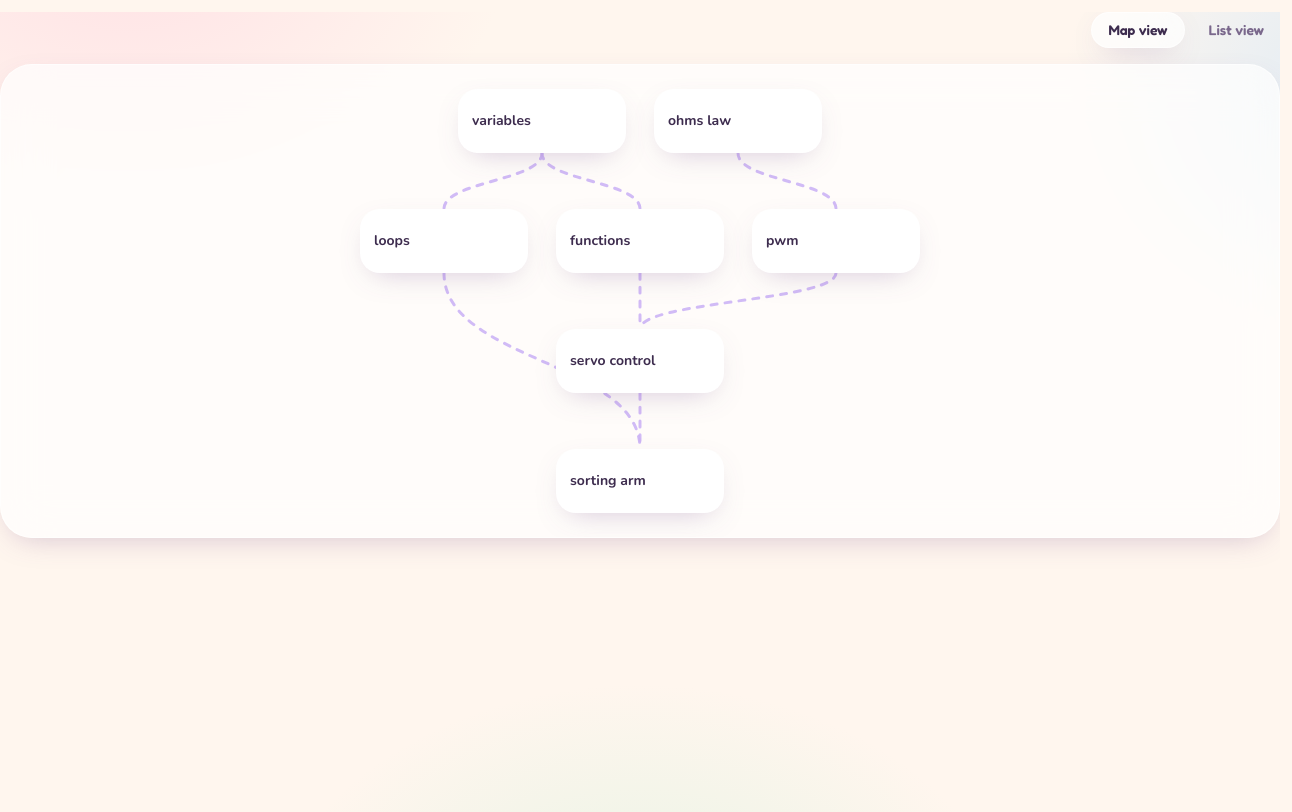
it: GraphView › offers an accessible list view
This screenshot has width=1292, height=812.
Click the button "List view". click: (1236, 30)
box: [1192,12,1280,48]
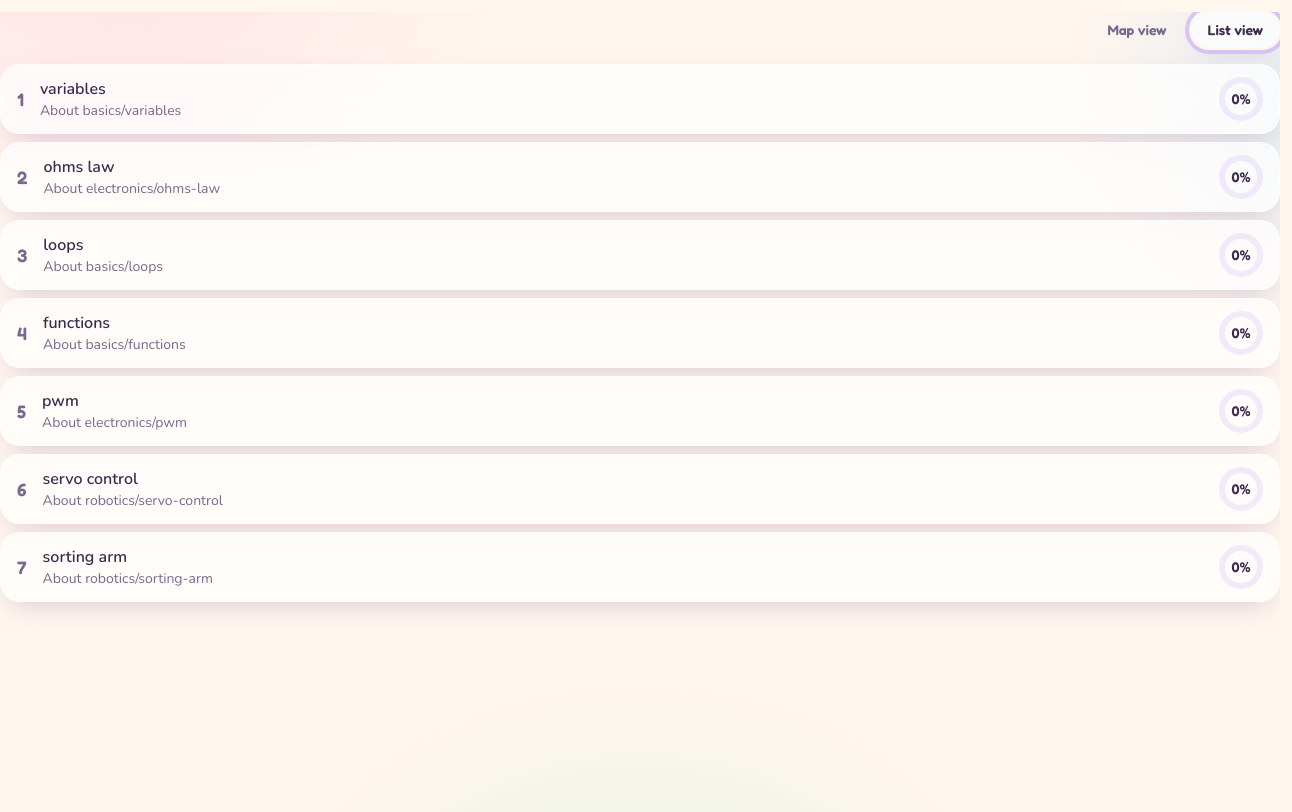
Expected: the number of list items is 7
